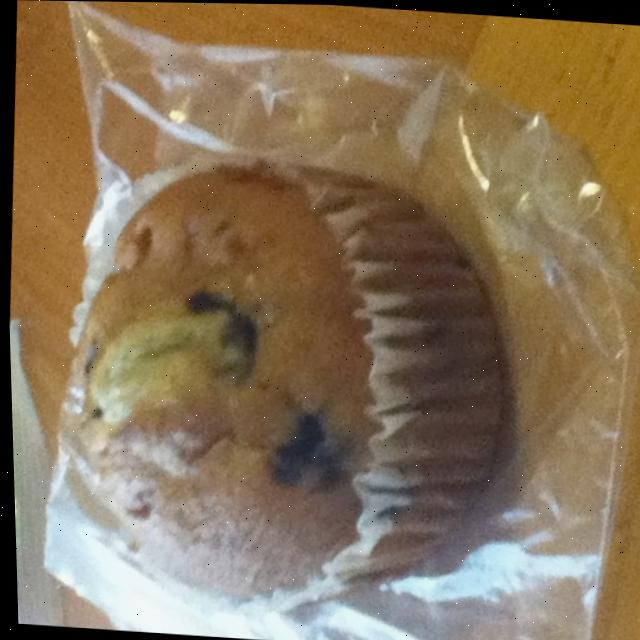炸货点心: (2, 67, 549, 635)
面包点心: (2, 67, 549, 635)
